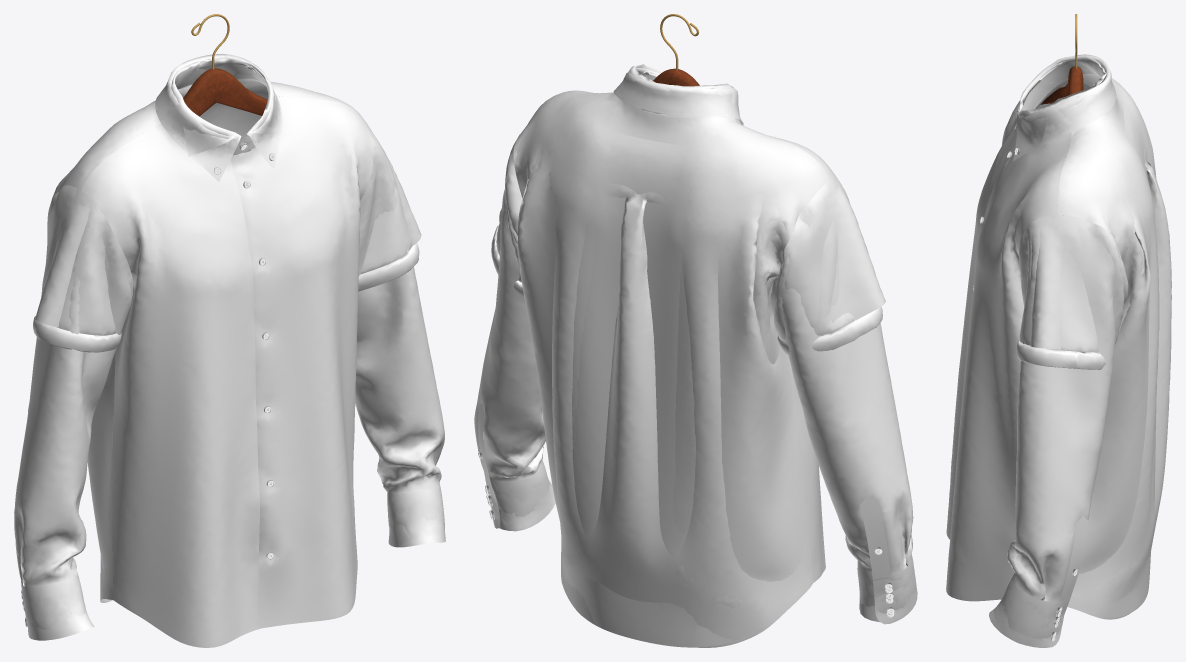
Rendered from ShirtModel-transformed.glb.
The picture shows the model from 3 angles, left to right: view 1: azimuth 30°, elevation 25°; view 2: azimuth 150°, elevation 25°; view 3: azimuth 270°, elevation 25°; orthographic projection. The views are drawn at different scales.
Visible parts, largest first — view 1: Front, sleeve1, sleeve2, back3, sleeve3, collar3, back1, cuff1, hanger, cuff3, back2, collar1 (+3 smaller); view 2: back1, back3, sleeve1, back2, sleeve3, sleeve2, Front, cuff1, cuff2, collar1, collar2, cuff3 (+1 smaller); view 3: Front, sleeve1, back1, back3, sleeve2, back2, sleeve3, collar2, cuff1, collar3, collar1, cuff2 (+4 smaller).
Part boxes in pixels (x1=…): Front: x1=81, y1=96, x2=374, y2=647; sleeve1: x1=14, y1=148, x2=444, y2=586; sleeve2: x1=33, y1=127, x2=419, y2=352; back3: x1=63, y1=78, x2=316, y2=601; sleeve3: x1=35, y1=138, x2=421, y2=327; collar3: x1=155, y1=59, x2=277, y2=152; back1: x1=55, y1=78, x2=359, y2=602; cuff1: x1=22, y1=486, x2=444, y2=629; hanger: x1=183, y1=14, x2=267, y2=116; cuff3: x1=21, y1=486, x2=444, y2=640; back2: x1=53, y1=80, x2=360, y2=598; collar1: x1=155, y1=53, x2=280, y2=181; back1: x1=513, y1=91, x2=828, y2=647; back3: x1=514, y1=93, x2=828, y2=647; sleeve1: x1=474, y1=140, x2=913, y2=579; back2: x1=513, y1=90, x2=829, y2=646; sleeve3: x1=499, y1=134, x2=885, y2=335; sleeve2: x1=491, y1=161, x2=882, y2=355; Front: x1=572, y1=90, x2=836, y2=582; cuff1: x1=485, y1=460, x2=916, y2=613; cuff2: x1=485, y1=469, x2=917, y2=624; collar1: x1=618, y1=67, x2=743, y2=125; collar2: x1=613, y1=68, x2=742, y2=124; cuff3: x1=485, y1=460, x2=917, y2=621; Front: x1=946, y1=78, x2=1071, y2=601; sleeve1: x1=1007, y1=82, x2=1128, y2=601; back1: x1=1057, y1=73, x2=1171, y2=619; back3: x1=1065, y1=73, x2=1156, y2=615; sleeve2: x1=1016, y1=106, x2=1124, y2=369; back2: x1=1057, y1=76, x2=1154, y2=617; sleeve3: x1=1023, y1=215, x2=1124, y2=349; collar2: x1=1013, y1=54, x2=1116, y2=160; cuff1: x1=1001, y1=578, x2=1070, y2=638; collar3: x1=1017, y1=55, x2=1106, y2=138; collar1: x1=1014, y1=54, x2=1115, y2=161; cuff2: x1=989, y1=593, x2=1063, y2=647.
Bounding box in the file's own units: 0.6494 × 0.8639 × 0.3111.
17 materials, 17 textured.
